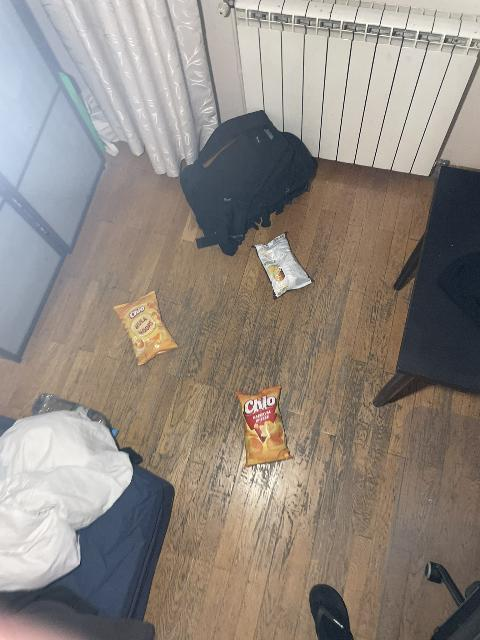Chio Cascaval 125g: (235, 385, 294, 468)
Chio Hula Hoops Cheese 70g: (115, 291, 181, 358)
Lays Beef Grilled Ribs 125g: (251, 232, 313, 296)
